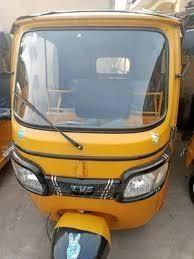keke: (6, 7, 183, 259)
